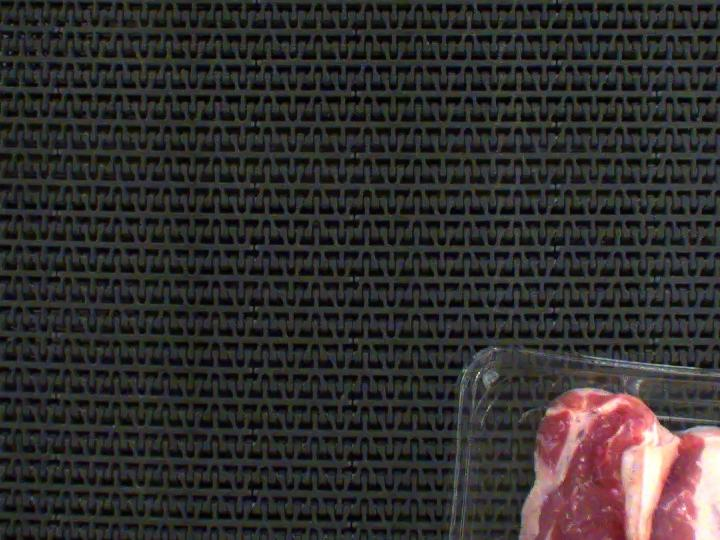packaging-error: (613, 371, 648, 403)
